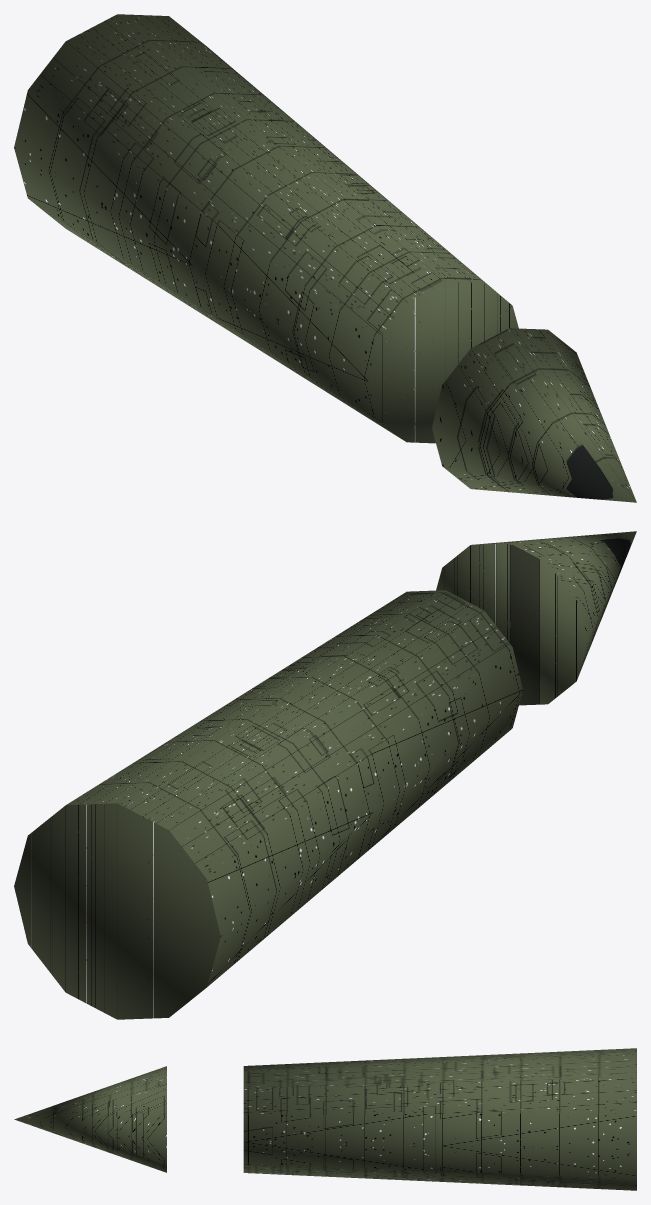
Rendered from medium_tank_shell_projectile.obj.
3 views of the same model, one above another, from view 1: azimuth 30°, elevation 25°; view 2: azimuth 150°, elevation 25°; view 3: azimuth 270°, elevation 25° (orthographic). The views are drawn at different scales.
Visible parts, largest first — view 1: Projectile; view 2: Projectile; view 3: Projectile.
Part boxes in pixels (x1,y1,x2,y2): Projectile: (14, 14, 636, 502); Projectile: (14, 531, 636, 1019); Projectile: (14, 1048, 636, 1190).
Bounding box in the file's own units: 0.11 × 0.11 × 0.4788.
